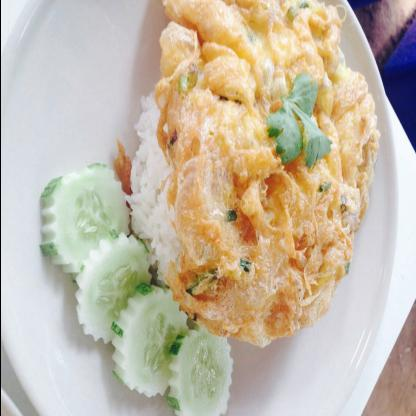Omelette: (101, 0, 383, 362)
